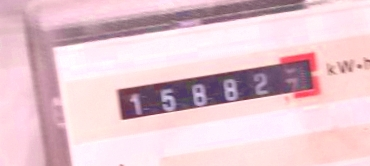1: (127, 91, 145, 117)
2: (251, 69, 271, 97)
5: (158, 86, 177, 113)
7: (283, 74, 300, 92)
8: (188, 81, 209, 107), (220, 74, 239, 101)
screen: (100, 43, 333, 136)
